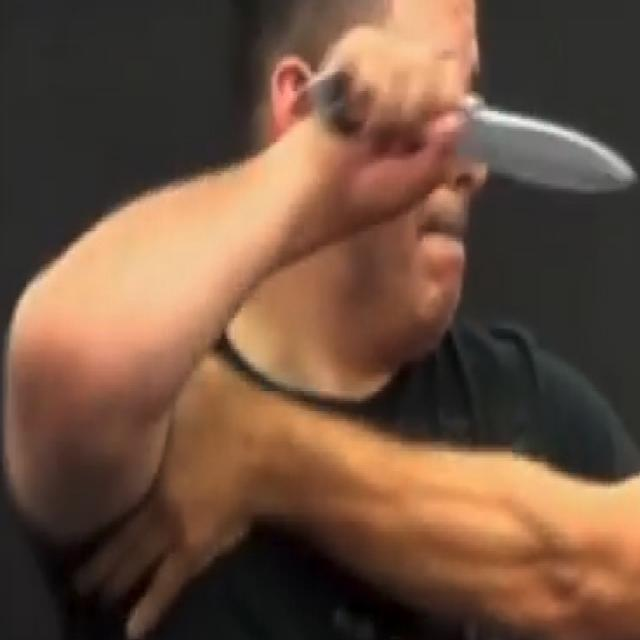suspicion: (6, 15, 638, 528), (467, 102, 637, 202), (304, 60, 354, 128)
